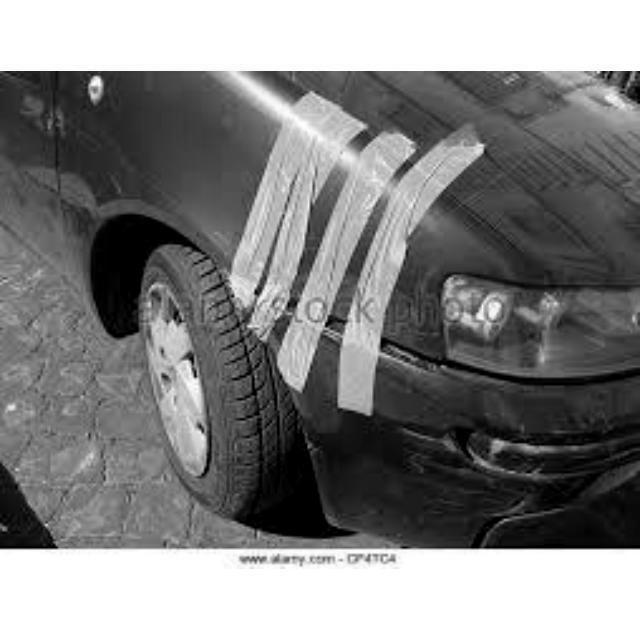front-bumper-dent: (343, 356, 635, 544)
